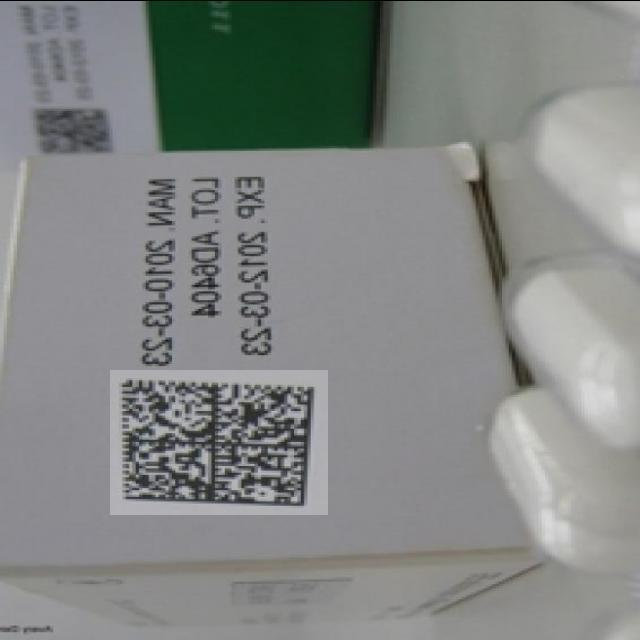Data-Matrix: (110, 369, 328, 514)
